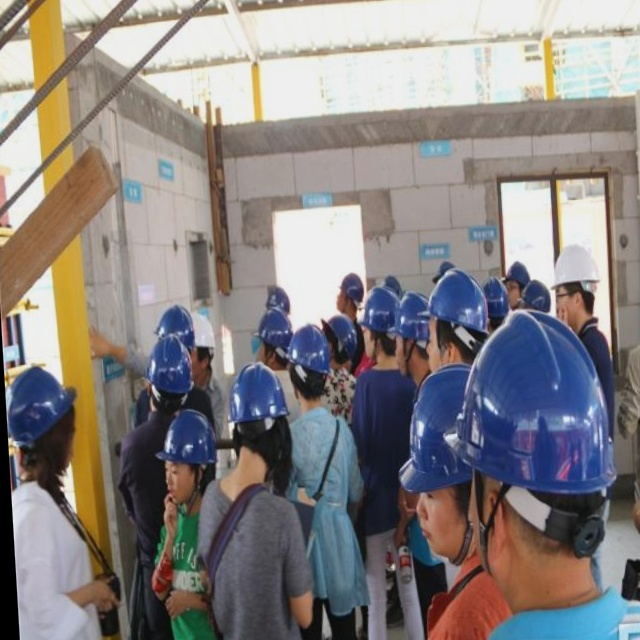Con_Casco: (6, 366, 82, 472), (225, 359, 291, 469), (550, 243, 602, 324)
